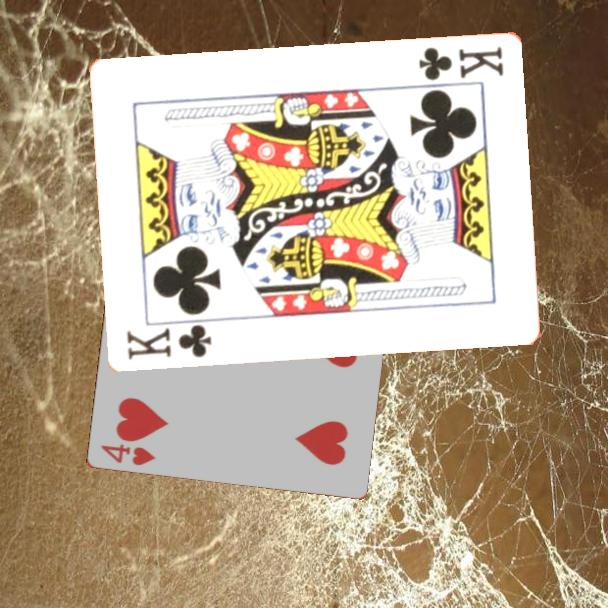c13: (415, 42, 507, 83), (123, 321, 215, 362)
h04: (97, 441, 158, 469)
